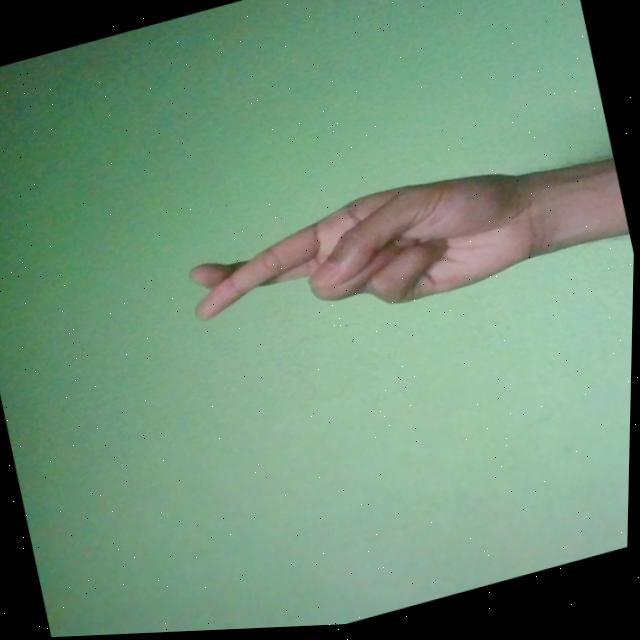Good Luck: (181, 155, 554, 361)
